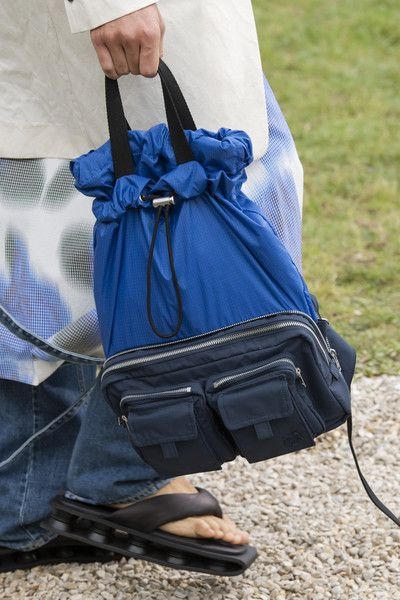nylon: (71, 56, 400, 530)
